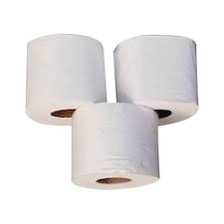tissue: (65, 99, 163, 193), (110, 31, 202, 131), (21, 30, 109, 128)
